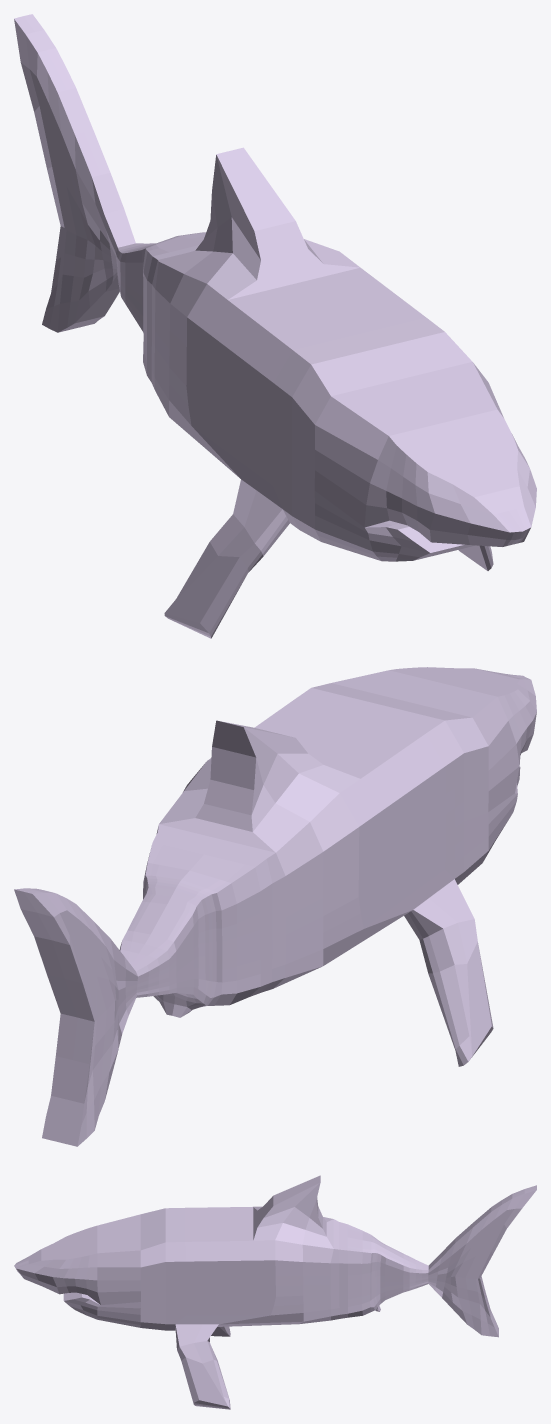
File: shark7.fbx
3 views of the same model, one above another, from view 1: azimuth 30°, elevation 25°; view 2: azimuth 150°, elevation 25°; view 3: azimuth 270°, elevation 25° (orthographic). The views are drawn at different scales.
Visible parts, largest first — view 1: Shark; view 2: Shark; view 3: Shark.
Part boxes in pixels (bbox=[...]): Shark: bbox=[14, 14, 536, 638]; Shark: bbox=[14, 667, 536, 1146]; Shark: bbox=[14, 1175, 536, 1409].
Bounding box in the file's own units: 156 × 179 × 437.
